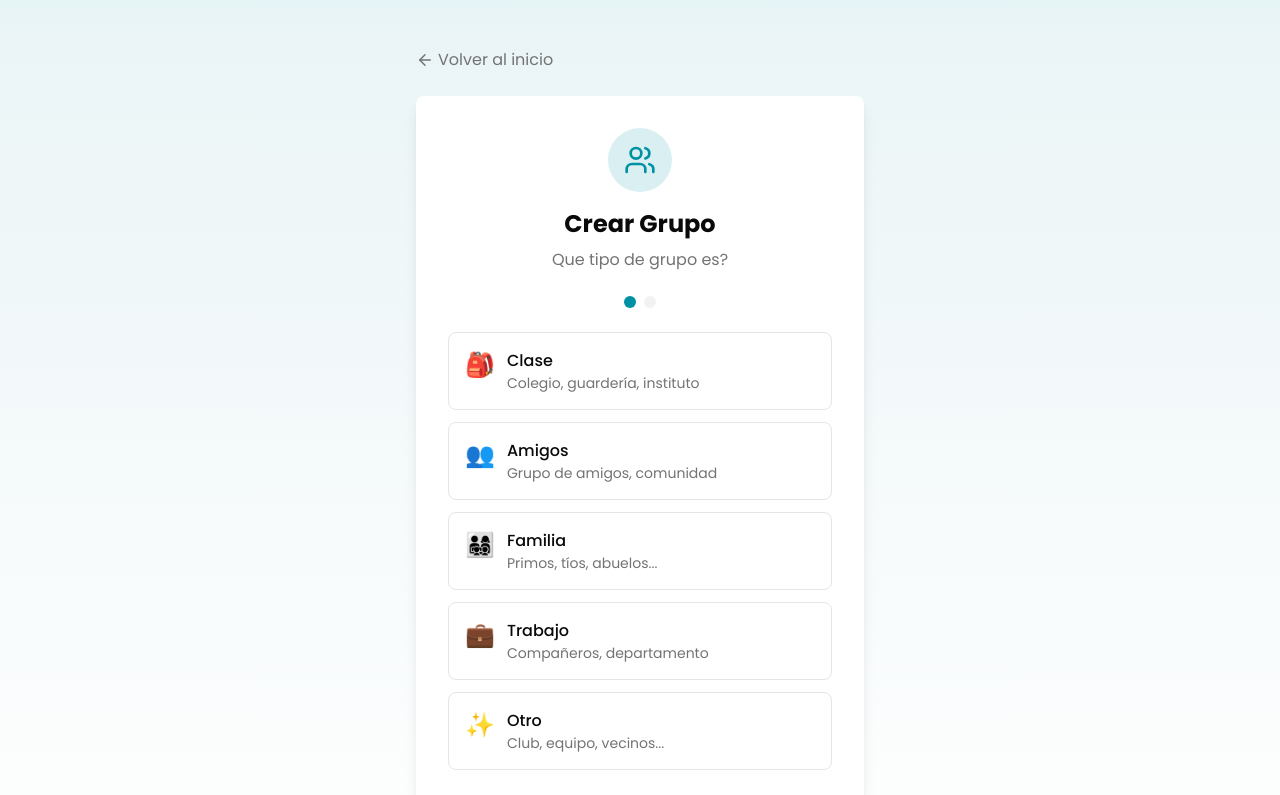
Test case: CreateGroupPage › Step 1: Group Type Selection › avanza al paso 2 al seleccionar tipo Amigos
Click the text "Amigos".
click(538, 450)  # box [507,439,568,462]
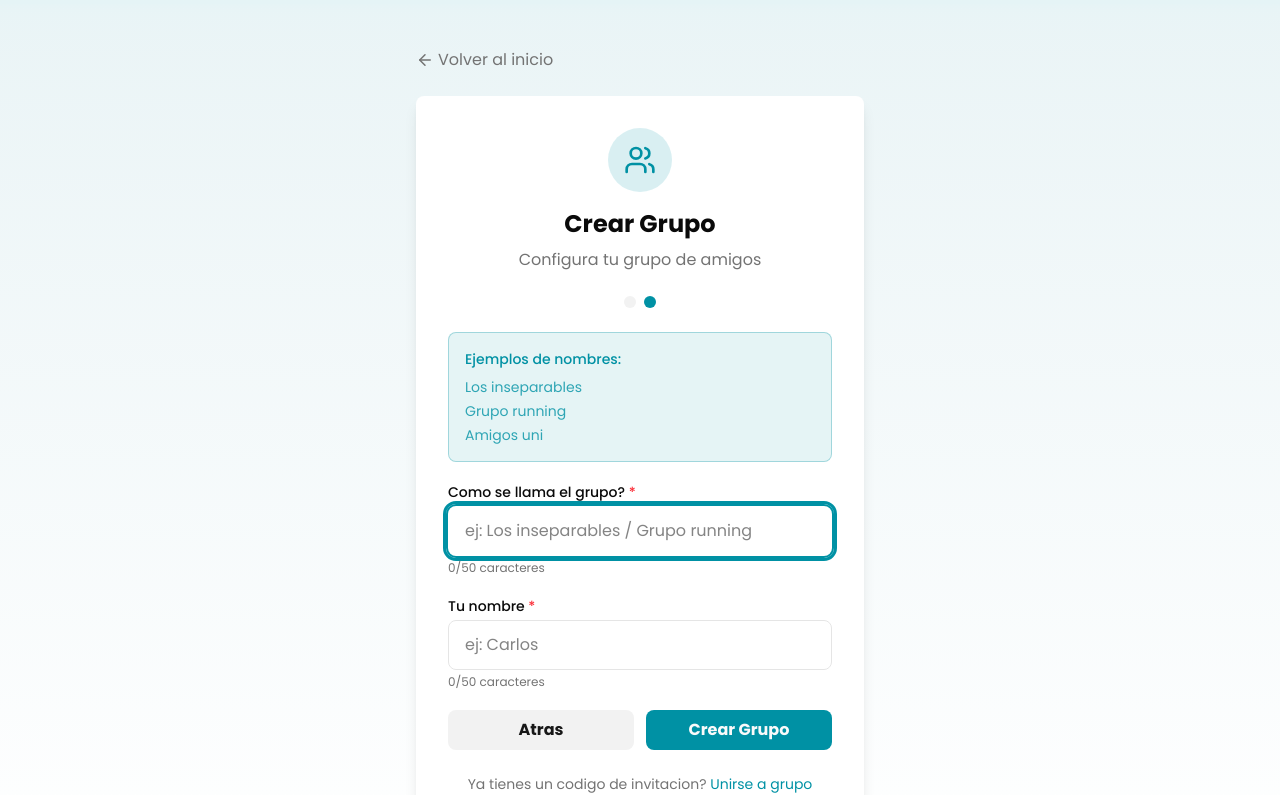
Expected: the text "Configura tu grupo de amigos" is shown, [519,248,761,271]
Expected: the text "Como se llama el grupo? *" is shown, [448,482,636,502]
